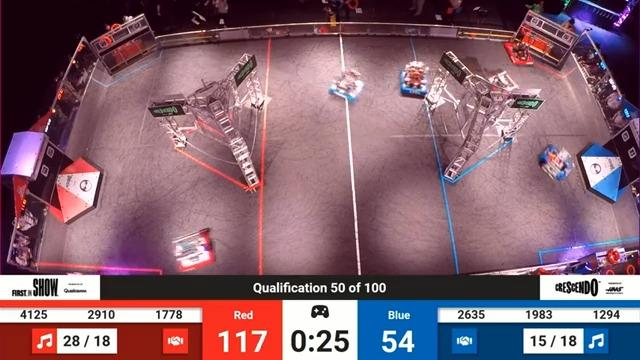robot: (158, 228, 229, 272), (391, 53, 437, 103), (326, 66, 372, 105), (536, 143, 577, 185), (502, 31, 537, 73), (487, 64, 517, 96)
